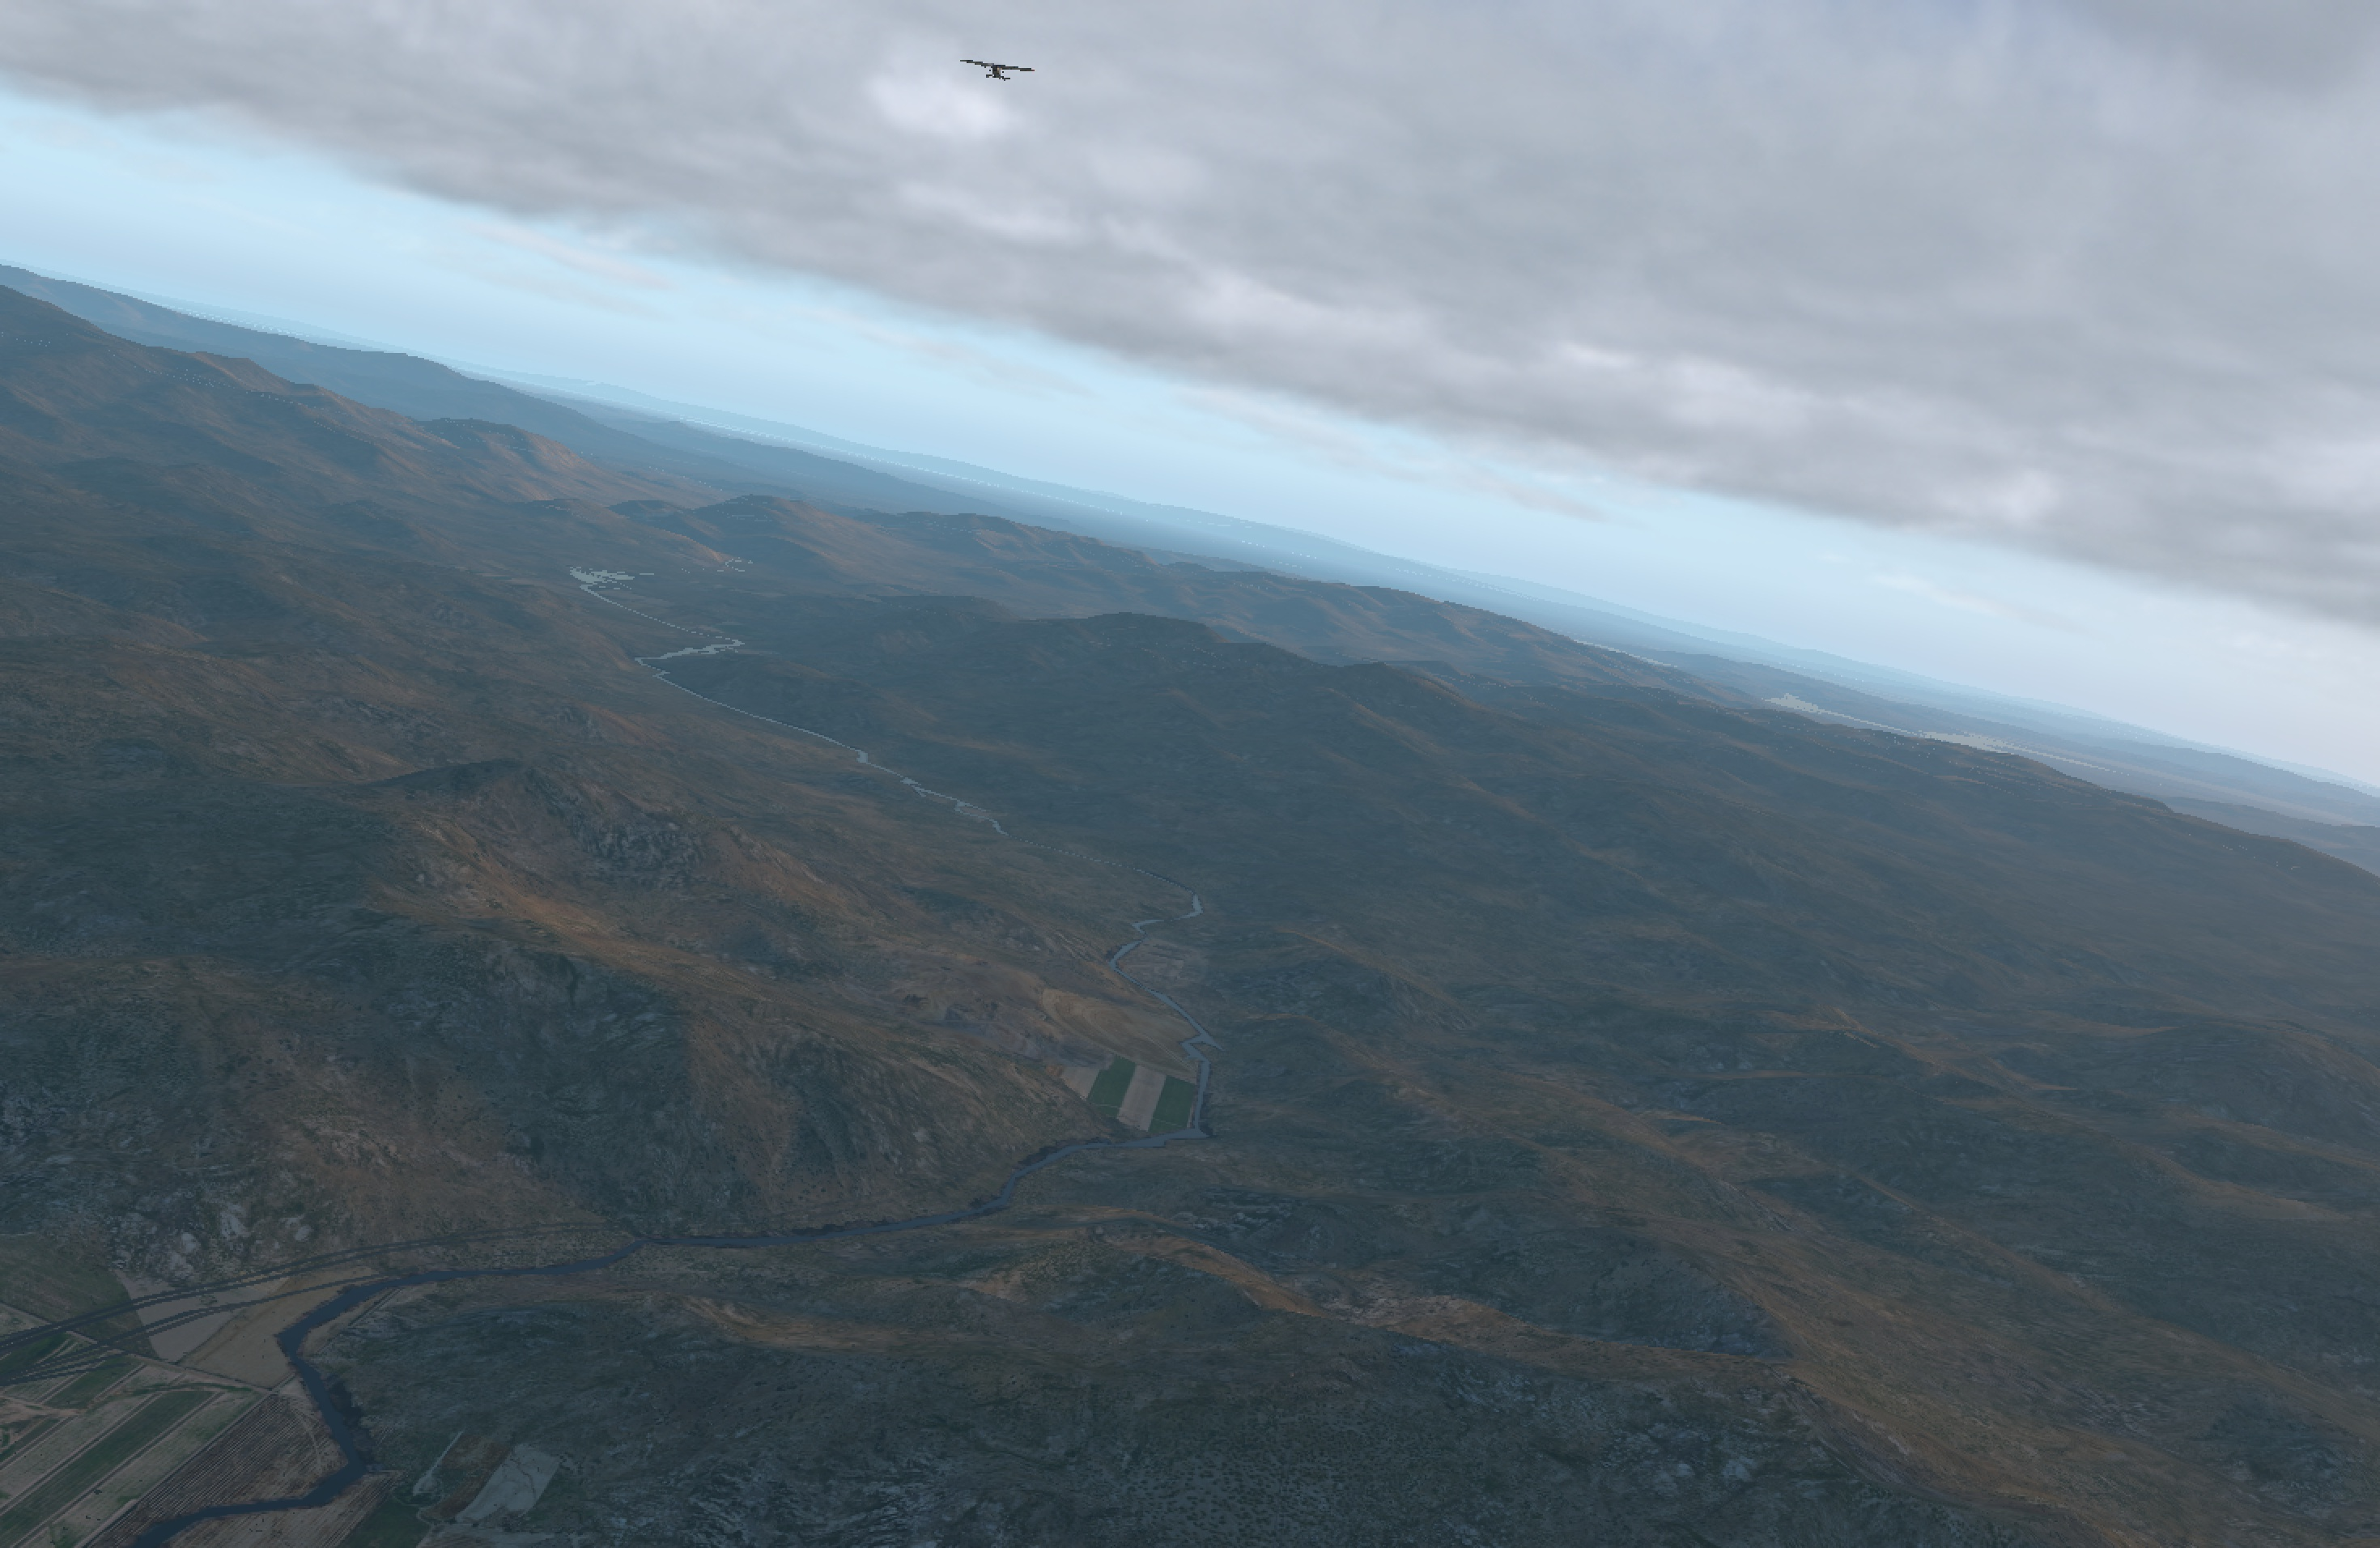aircraft: (971, 61, 1022, 78)
